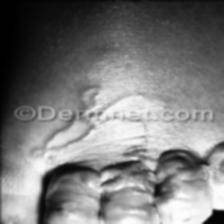Toxin: (43, 148, 224, 192)
